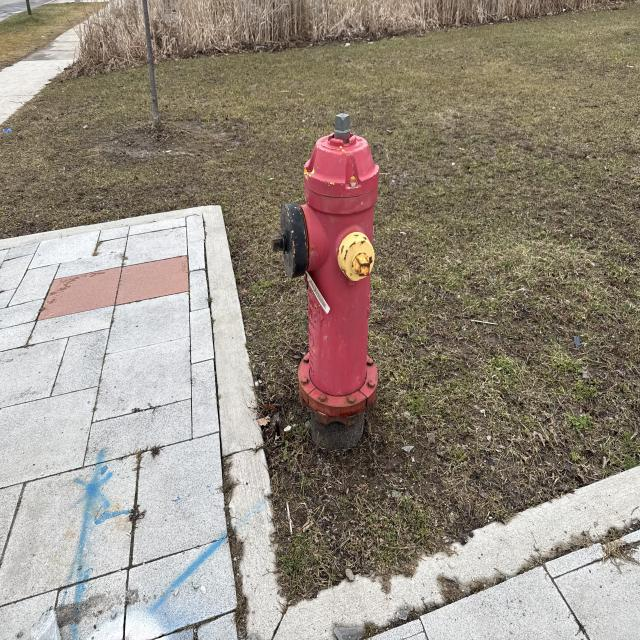Fire hydrant: (270, 113, 380, 427)
